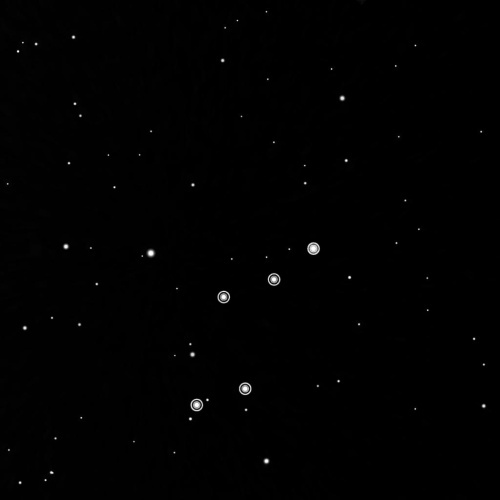lyra: (189, 236, 323, 414)
